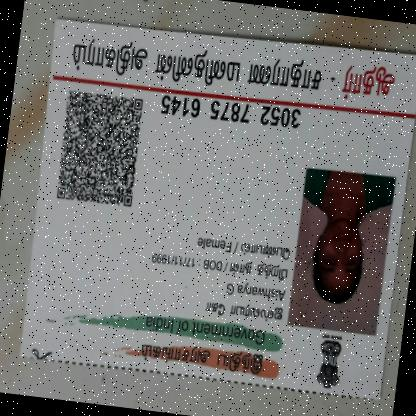aadhaar_card: (6, 4, 415, 412)
